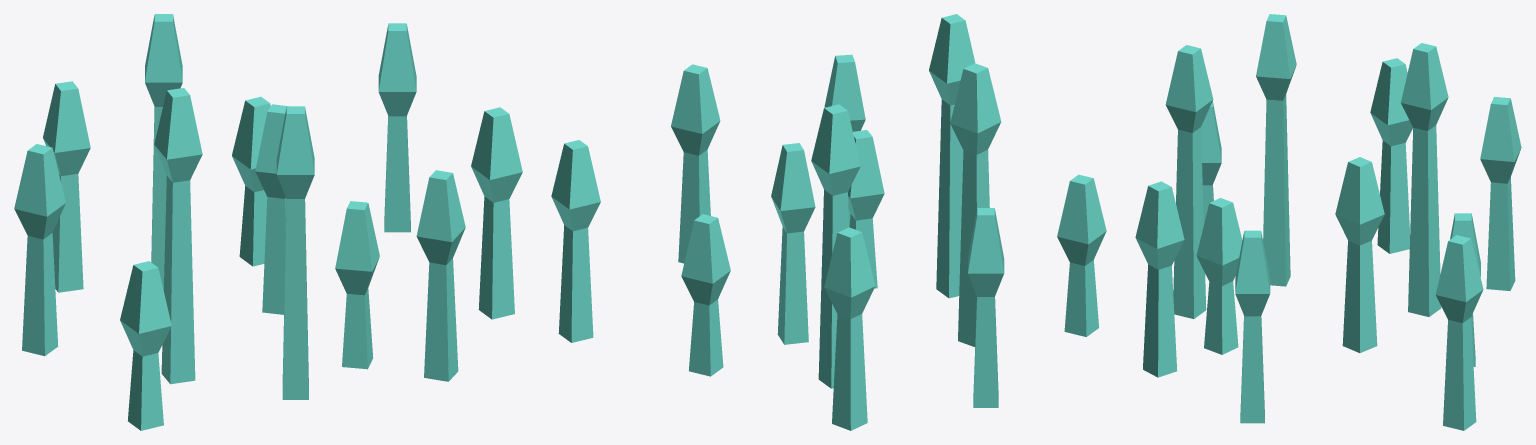
The picture shows the model from 3 angles, left to right: view 1: azimuth 30°, elevation 25°; view 2: azimuth 150°, elevation 25°; view 3: azimuth 270°, elevation 25°; orthographic projection. The views are drawn at different scales.
Parts seen in each view (by area): view 1: crops_wheatStageA; view 2: crops_wheatStageA; view 3: crops_wheatStageA.
Boxes of the visible parts, x1,y1,x2,y2 form: crops_wheatStageA: [14, 14, 522, 430]; crops_wheatStageA: [551, 14, 1106, 430]; crops_wheatStageA: [1135, 14, 1521, 430].
Size of the model in its own units: 0.5396 by 0.3349 by 0.4467.
